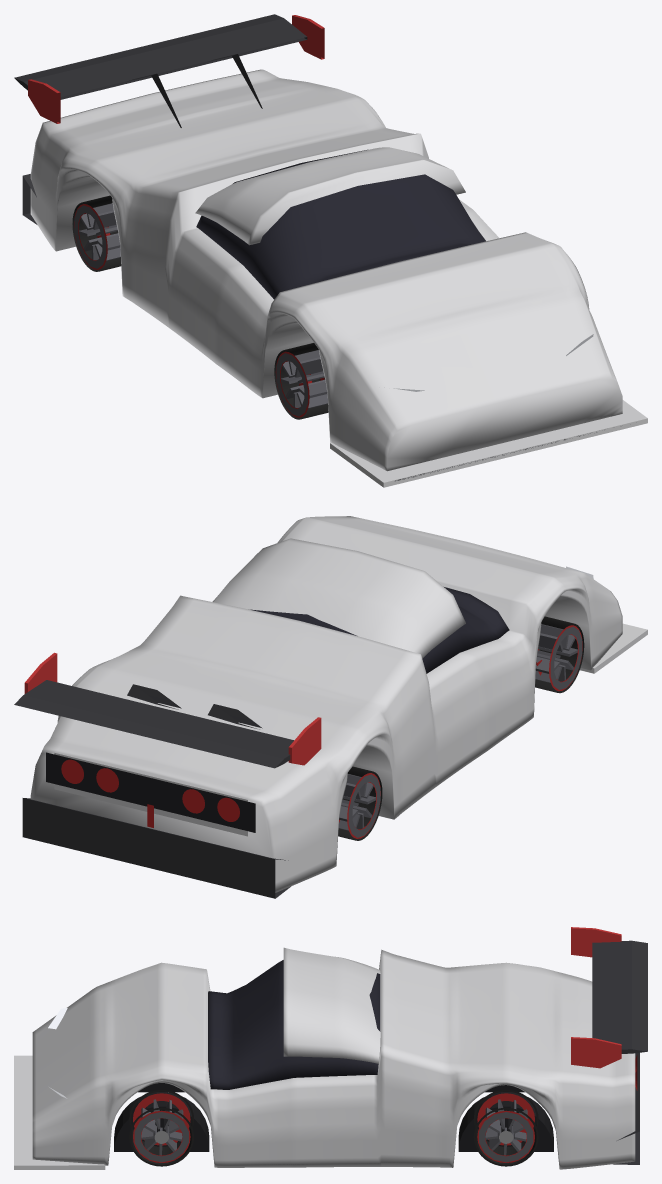
3 renders of one model, top to bottom at view 1: azimuth 30°, elevation 25°; view 2: azimuth 150°, elevation 25°; view 3: azimuth 270°, elevation 25°, orthographic. The views are drawn at different scales.
Visible parts, largest first — view 1: gt3_body, gt3_glass, gt3_roof, gt3_wing, gt3_bumperlip, gt3_rim_fl, gt3_rim_rl, gt3_wing_endplate_l, gt3_wing_endplate_r, gt3_wheel_fl, gt3_wheel_rl; view 2: gt3_body, gt3_roof, gt3_diffuser, gt3_wing, gt3_tailband, gt3_glass, gt3_rim_fl, gt3_rim_rl, gt3_tail_panel, gt3_wing_endplate_l, gt3_bumperlip, gt3_wheel_fl (+4 smaller); view 3: gt3_body, gt3_glass, gt3_roof, gt3_wing, gt3_bumperlip, gt3_rim_fr, gt3_rim_rr, gt3_archliner_rr, gt3_archliner_fr, gt3_wing_endplate_r, gt3_wheel_rr, gt3_wheel_fr (+4 smaller).
Boxes of the visible parts, bbox=[...] form: gt3_body: bbox=[30, 69, 622, 471]; gt3_glass: bbox=[196, 149, 485, 299]; gt3_roof: bbox=[195, 147, 465, 245]; gt3_wing: bbox=[14, 14, 307, 99]; gt3_bumperlip: bbox=[330, 400, 647, 487]; gt3_rim_fl: bbox=[276, 350, 327, 416]; gt3_rim_rl: bbox=[74, 203, 120, 268]; gt3_wing_endplate_l: bbox=[28, 79, 60, 123]; gt3_wing_endplate_r: bbox=[292, 15, 324, 59]; gt3_wheel_fl: bbox=[274, 343, 328, 419]; gt3_wheel_rl: bbox=[72, 195, 121, 271]; gt3_body: bbox=[30, 516, 622, 892]; gt3_roof: bbox=[212, 538, 465, 658]; gt3_diffuser: bbox=[22, 798, 290, 898]; gt3_wing: bbox=[14, 680, 293, 768]; gt3_tailband: bbox=[46, 752, 255, 832]; gt3_glass: bbox=[250, 587, 509, 673]; gt3_rim_fl: bbox=[535, 624, 582, 689]; gt3_rim_rl: bbox=[338, 774, 380, 837]; gt3_tail_panel: bbox=[54, 753, 247, 836]; gt3_wing_endplate_l: bbox=[288, 717, 321, 765]; gt3_bumperlip: bbox=[580, 623, 647, 673]; gt3_wheel_fl: bbox=[535, 616, 584, 693]; gt3_body: bbox=[32, 949, 635, 1169]; gt3_glass: bbox=[208, 960, 380, 1089]; gt3_roof: bbox=[283, 947, 380, 1063]; gt3_wing: bbox=[592, 940, 647, 1053]; gt3_bumperlip: bbox=[14, 1055, 105, 1169]; gt3_rim_fr: bbox=[134, 1099, 188, 1162]; gt3_rim_rr: bbox=[479, 1099, 533, 1162]; gt3_archliner_rr: bbox=[458, 1092, 553, 1151]; gt3_archliner_fr: bbox=[114, 1092, 209, 1151]; gt3_wing_endplate_r: bbox=[571, 1037, 621, 1068]; gt3_wheel_rr: bbox=[473, 1090, 538, 1166]; gt3_wheel_fr: bbox=[129, 1090, 194, 1166].
Bounding box in the file's own units: 2.15 × 1.19 × 4.78.
